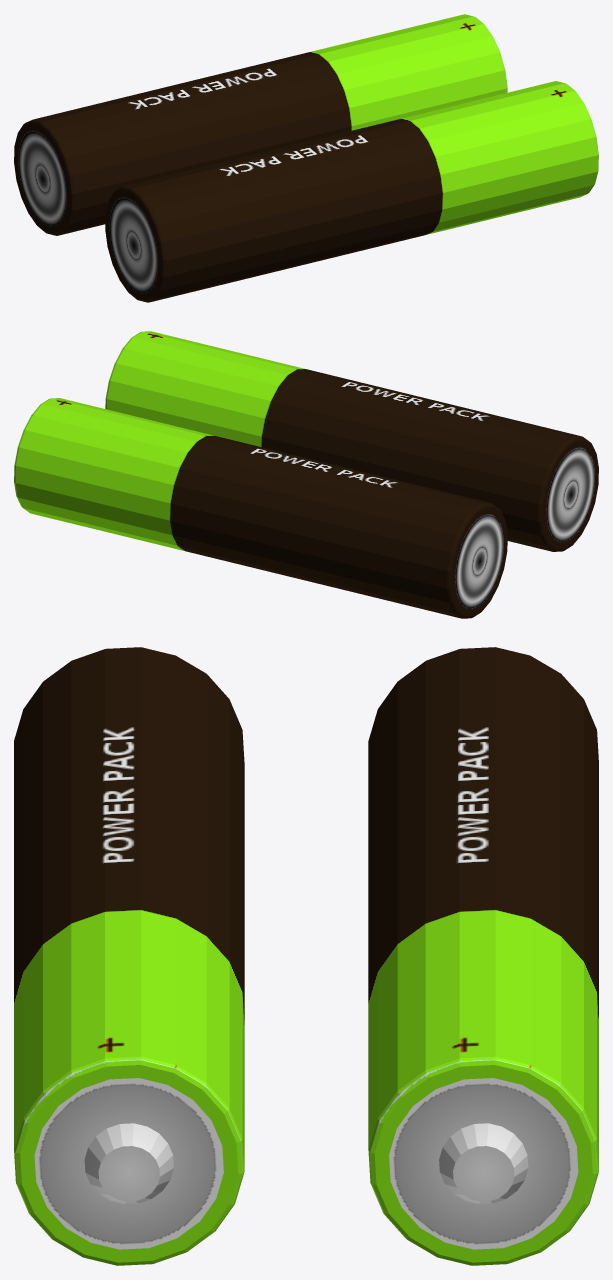
Rendered from powerpack1.fbx.
The picture shows the model from 3 angles, top to bottom: view 1: azimuth 30°, elevation 25°; view 2: azimuth 150°, elevation 25°; view 3: azimuth 270°, elevation 25°; orthographic projection. The views are drawn at different scales.
Parts seen in each view (by area): view 1: polySurface1; view 2: polySurface1; view 3: polySurface1.
Part boxes in pixels (x1,y1,x2,y2): polySurface1: [14, 14, 598, 302]; polySurface1: [14, 331, 598, 618]; polySurface1: [14, 647, 598, 1265].
Size of the model in its own units: 16.5 by 3.79 by 9.61.
Materials: 1 (1 with a texture image).
